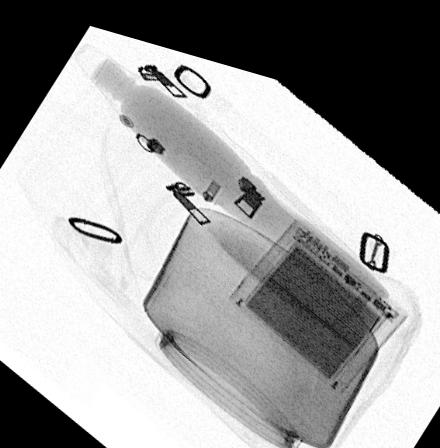Powerbank: (229, 200, 408, 375)
